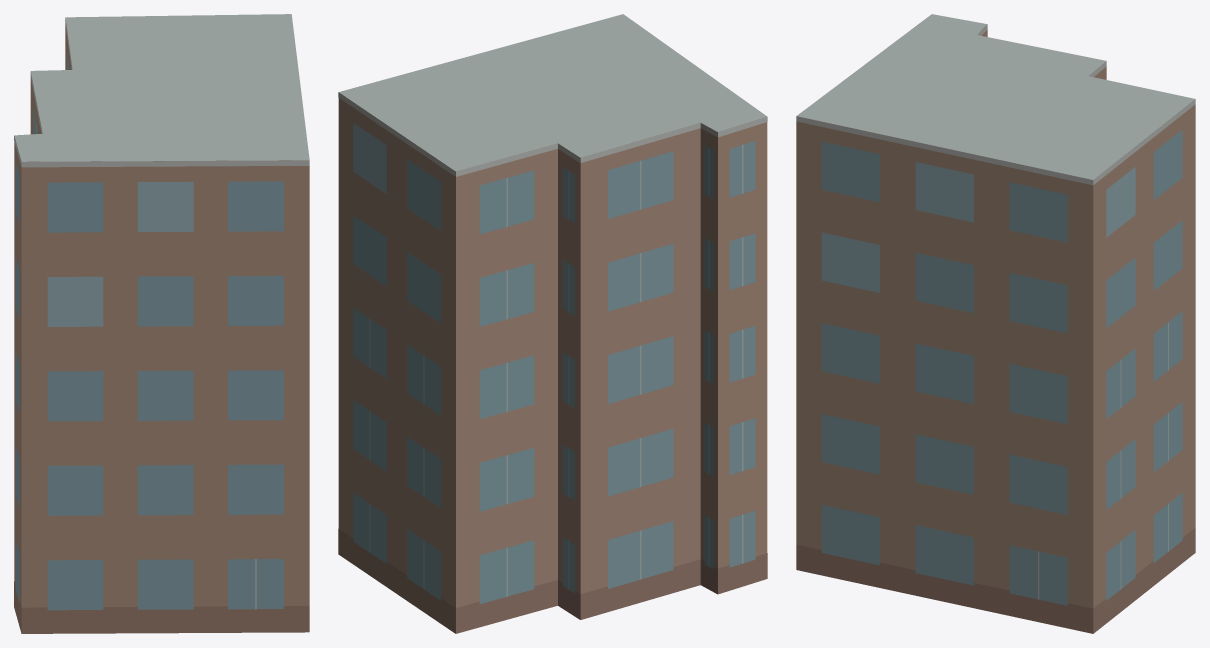
Rendered from survey-upis-32503077.glb.
3 views of the same model, side by side, from view 1: azimuth 30°, elevation 25°; view 2: azimuth 150°, elevation 25°; view 3: azimuth 270°, elevation 25° (orthographic). The views are drawn at different scales.
Visible parts, largest first — view 1: survey-upis-32503077.tmp; view 2: survey-upis-32503077.tmp; view 3: survey-upis-32503077.tmp.
Boxes of the visible parts, x1=… form: survey-upis-32503077.tmp: x1=14, y1=14, x2=309, y2=633; survey-upis-32503077.tmp: x1=338, y1=14, x2=767, y2=633; survey-upis-32503077.tmp: x1=796, y1=14, x2=1195, y2=633.
Bounding box in the file's own units: 16.35 × 20.82 × 16.61.
